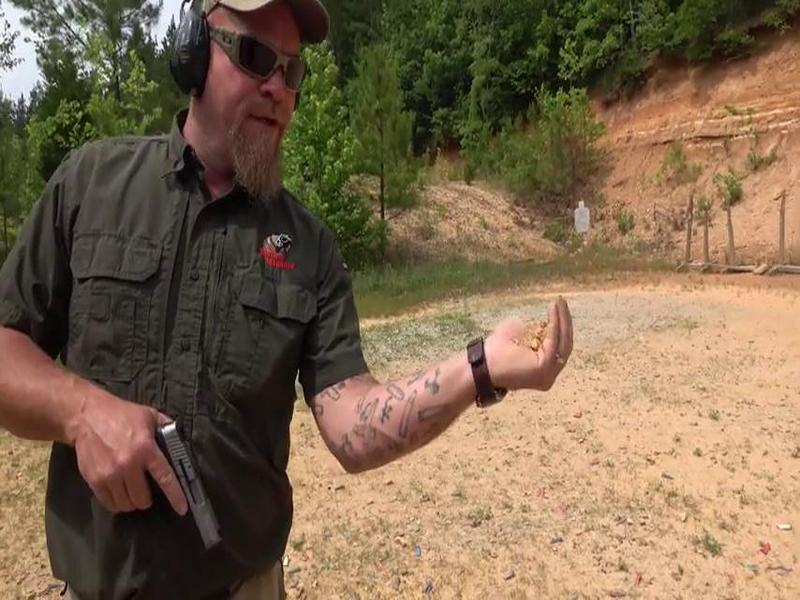Pistola: (139, 415, 233, 553)
Revolver: (140, 417, 230, 554)
